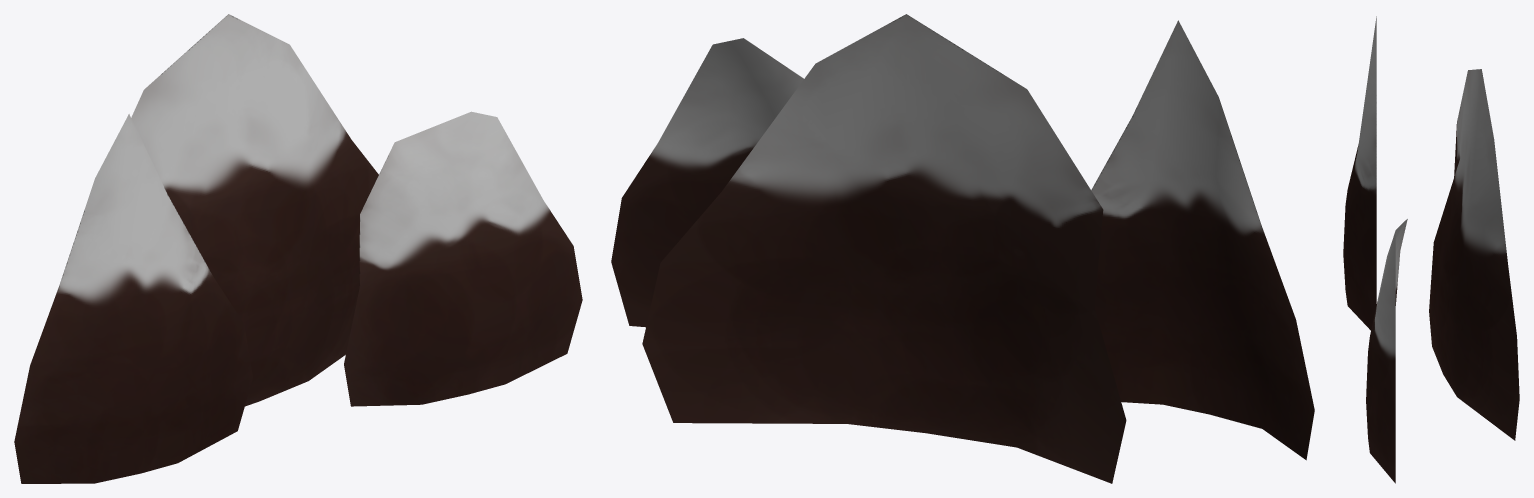
Rendered from Mountains_001.fbx.
3 views of the same model, side by side, from view 1: azimuth 30°, elevation 25°; view 2: azimuth 150°, elevation 25°; view 3: azimuth 270°, elevation 25° (orthographic). The views are drawn at different scales.
Parts seen in each view (by area): view 1: pCube4; view 2: pCube4; view 3: pCube4.
Boxes of the visible parts, bbox=[...] form: pCube4: bbox=[14, 14, 582, 483]; pCube4: bbox=[611, 14, 1314, 483]; pCube4: bbox=[1343, 16, 1519, 483].
Bounding box in the file's own units: 101 × 61.57 × 32.57.
